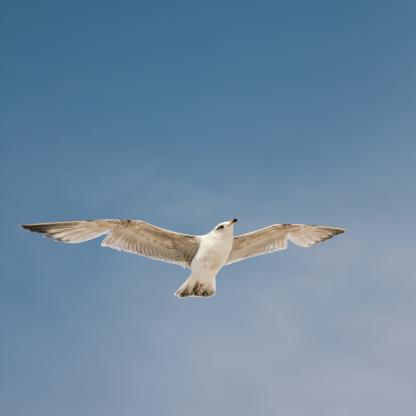bird: (16, 217, 346, 299)
